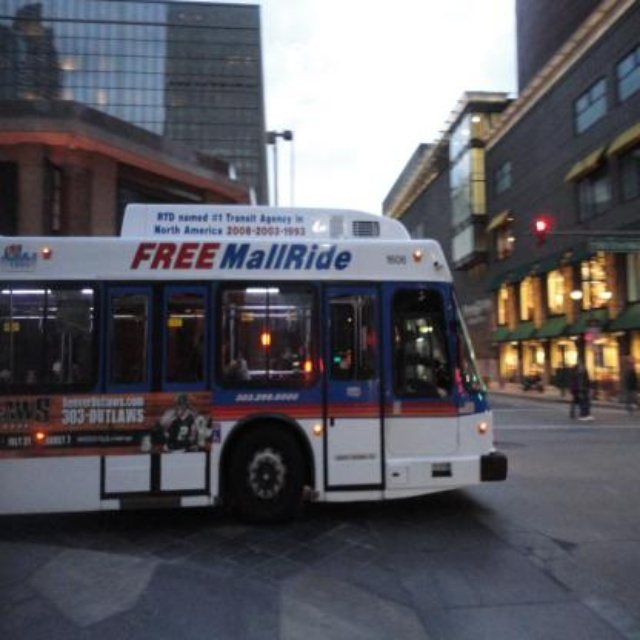Bus: (0, 205, 509, 515)
